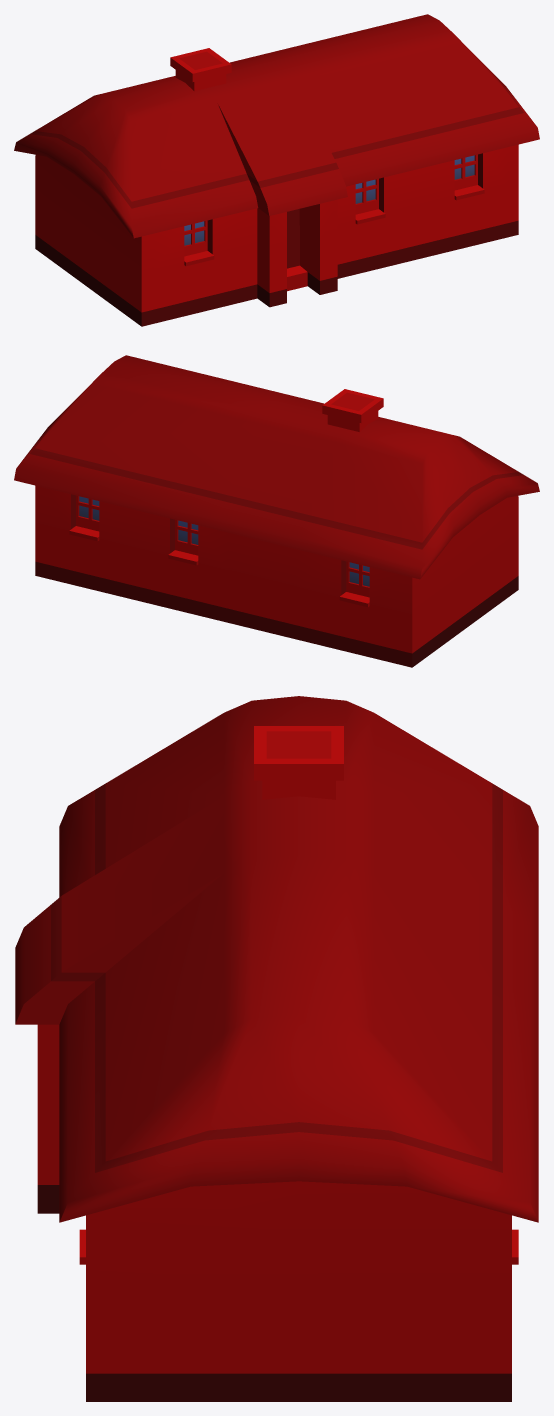
The model's file is buildings-farm-thatchedcottage_v1.fbx.
3 renders of one model, top to bottom at view 1: azimuth 30°, elevation 25°; view 2: azimuth 150°, elevation 25°; view 3: azimuth 270°, elevation 25°, orthographic. The views are drawn at different scales.
Parts seen in each view (by area): view 1: ThatchedCottage_v1_base, ThatchedCottage_v1_windowRefl; view 2: ThatchedCottage_v1_base, ThatchedCottage_v1_windowRefl; view 3: ThatchedCottage_v1_base.
Boxes of the visible parts, <box> form: ThatchedCottage_v1_base: <box>14,14,539,326</box>; ThatchedCottage_v1_windowRefl: <box>184,155,474,245</box>; ThatchedCottage_v1_base: <box>14,355,539,667</box>; ThatchedCottage_v1_windowRefl: <box>79,496,369,586</box>; ThatchedCottage_v1_base: <box>15,696,538,1401</box>.
Bounding box in the file's own units: 14.89 × 6.99 × 8.31.
